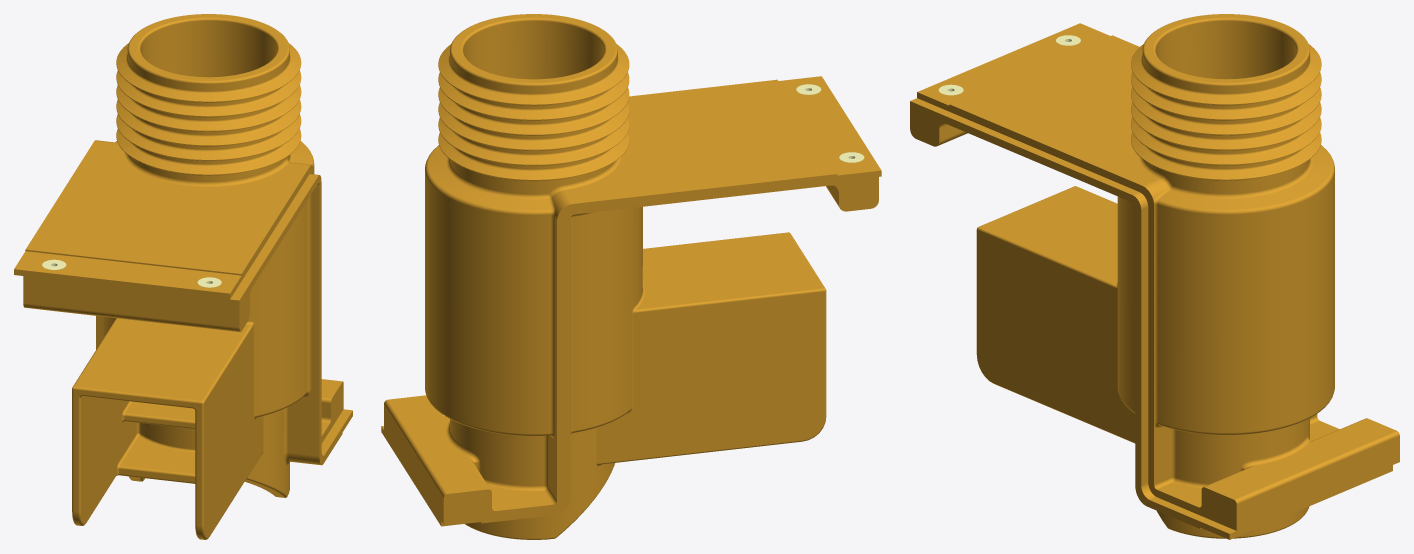
The model's file is 04.20_izolyator-prokhodnoy-uglovoy-ipu-35-606.glb.
3 views of the same model, side by side, from view 1: azimuth 30°, elevation 25°; view 2: azimuth 150°, elevation 25°; view 3: azimuth 270°, elevation 25° (orthographic). The views are drawn at different scales.
Parts seen in each view (by area): view 1: 04.20_izolyator-prokhodnoy-uglovoy-ipu-35-606; view 2: 04.20_izolyator-prokhodnoy-uglovoy-ipu-35-606; view 3: 04.20_izolyator-prokhodnoy-uglovoy-ipu-35-606.
Boxes of the visible parts, bbox=[...] form: 04.20_izolyator-prokhodnoy-uglovoy-ipu-35-606: bbox=[14, 14, 352, 539]; 04.20_izolyator-prokhodnoy-uglovoy-ipu-35-606: bbox=[381, 14, 881, 539]; 04.20_izolyator-prokhodnoy-uglovoy-ipu-35-606: bbox=[910, 14, 1399, 539].
Bounding box in the file's own units: 590 × 606 × 590.
